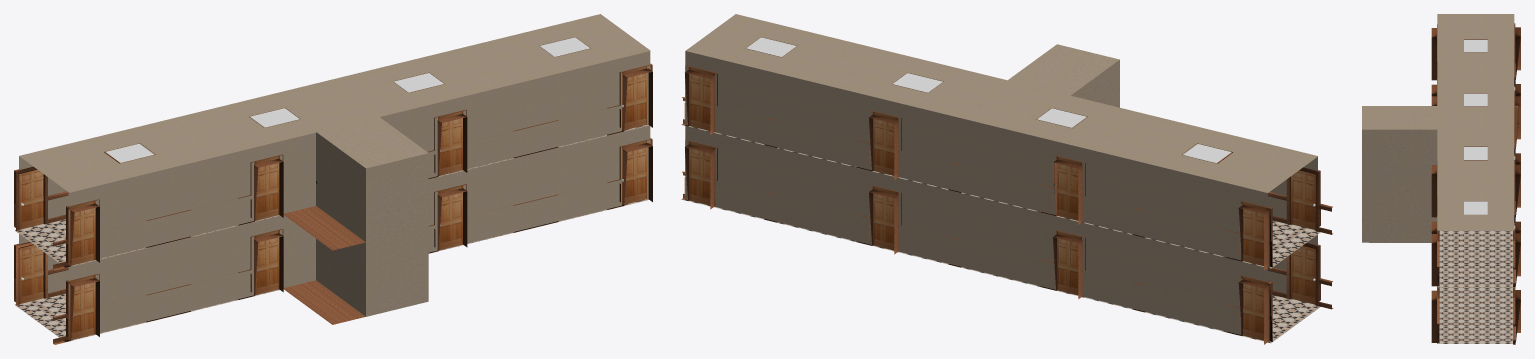
The model's file is Hallway4.fbx.
The picture shows the model from 3 angles, left to right: view 1: azimuth 30°, elevation 25°; view 2: azimuth 150°, elevation 25°; view 3: azimuth 270°, elevation 25°; orthographic projection. The views are drawn at different scales.
Parts seen in each view (by area): view 1: Walls.002, Walls, Ceiling.001, Walls.001, Doors.001, Doors, Door Frame.003, Door Frame.001, Lights.001, Floor, Floor.001, Door Frame.002 (+1 smaller); view 2: Walls.002, Walls, Ceiling.001, Doors.001, Doors, Walls.001, Door Frame.002, Door Frame, Lights.001, Floor.001, Floor, Door Frame.003 (+1 smaller); view 3: Ceiling.001, Walls.001, Floor.001, Floor, Door Frame.002, Door Frame.003, Lights.001, Door Frame.001, Door Frame, Lights Frame.001.
Part boxes in pixels (box(x1,y1,x2,y2)): Walls.002: box(19, 51, 650, 258); Walls: box(19, 125, 650, 332); Ceiling.001: box(19, 14, 650, 192); Walls.001: box(316, 117, 428, 316); Doors.001: box(19, 66, 646, 265); Doors: box(19, 140, 646, 340); Door Frame.003: box(53, 63, 652, 270); Door Frame.001: box(53, 138, 652, 344); Lights.001: box(106, 37, 589, 162); Floor: box(14, 199, 648, 340); Floor.001: box(15, 125, 648, 266); Door Frame.002: box(14, 166, 68, 231); Walls.002: box(685, 51, 1317, 260); Walls: box(685, 126, 1317, 334); Ceiling.001: box(686, 14, 1317, 192); Doors.001: box(688, 67, 1315, 266); Doors: box(688, 141, 1315, 340); Walls.001: box(1007, 44, 1119, 107); Door Frame.002: box(681, 65, 1272, 270); Door Frame: box(681, 140, 1272, 344); Lights.001: box(746, 37, 1231, 163); Floor.001: box(688, 126, 1320, 268); Floor: box(689, 200, 1320, 343); Door Frame.003: box(1268, 167, 1333, 234); Ceiling.001: box(1437, 14, 1514, 230); Walls.001: box(1362, 106, 1438, 242); Floor.001: box(1437, 85, 1515, 286); Floor: box(1437, 287, 1512, 343); Door Frame.002: box(1513, 23, 1520, 288); Door Frame.003: box(1431, 24, 1439, 286); Lights.001: box(1464, 39, 1487, 214); Door Frame.001: box(1431, 84, 1439, 342); Door Frame: box(1513, 84, 1520, 344); Lights Frame.001: box(1464, 39, 1487, 201).
Bounding box in the file's own units: 155 × 36.69 × 46.5.
